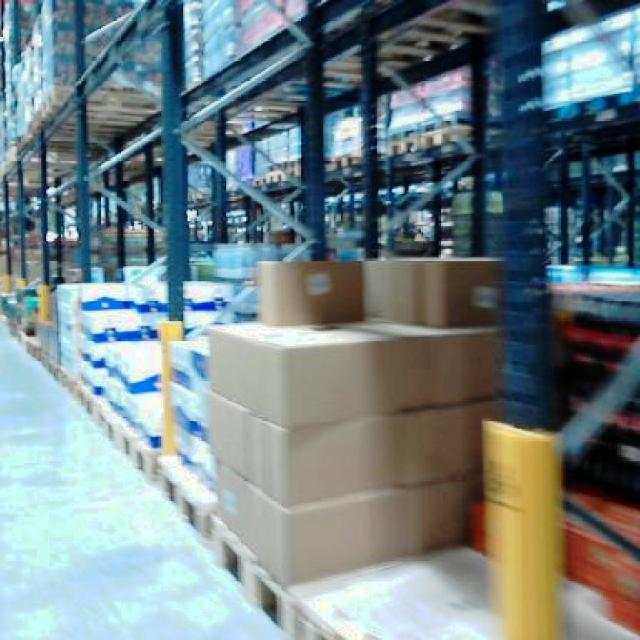ground: (0, 298, 306, 638)
pallet: (6, 255, 638, 638), (205, 254, 505, 589), (548, 277, 638, 638)
